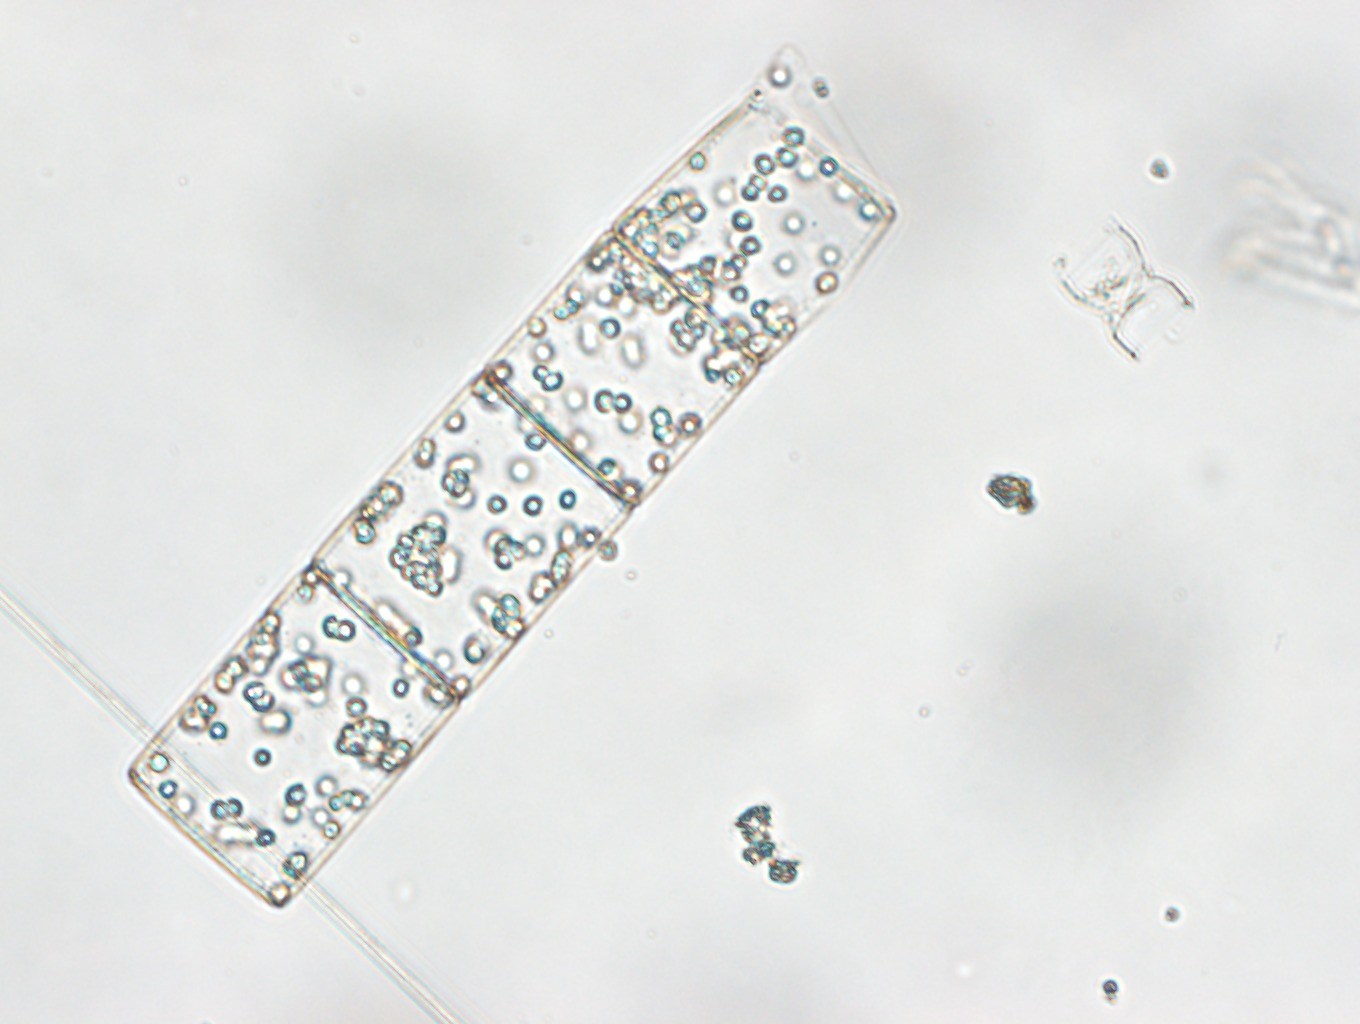guinardia flaccida: (127, 94, 899, 908)
